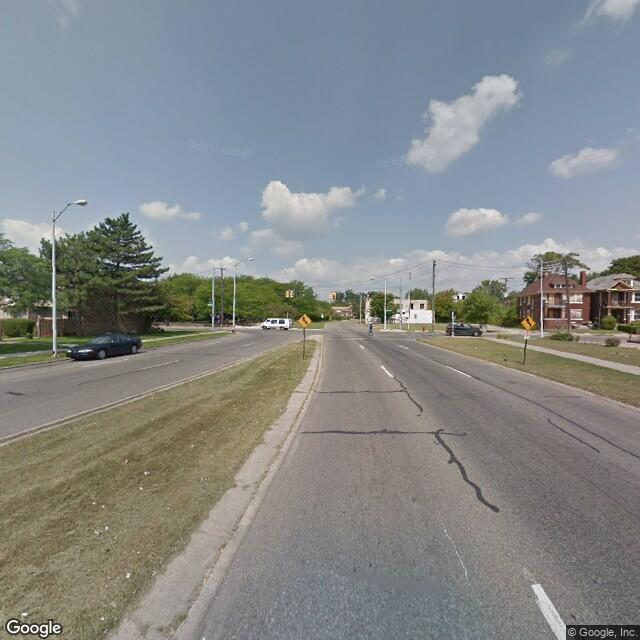litter: (124, 571, 134, 580), (502, 354, 507, 363), (143, 469, 149, 476), (138, 484, 143, 492), (103, 526, 111, 531)
